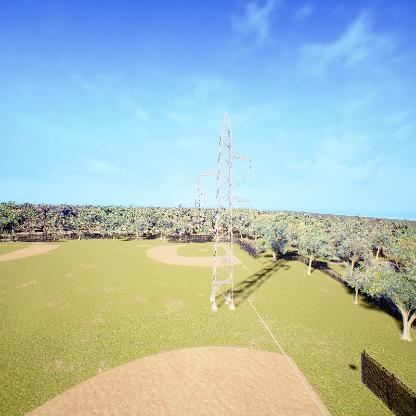tower: (191, 107, 255, 312)
